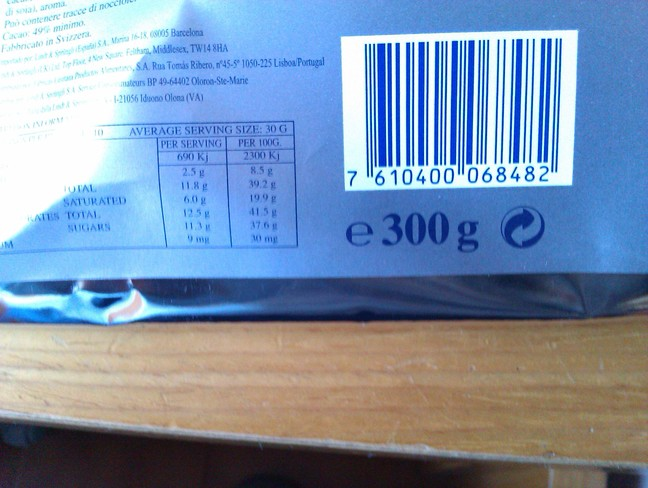barcode: (338, 26, 573, 186)
